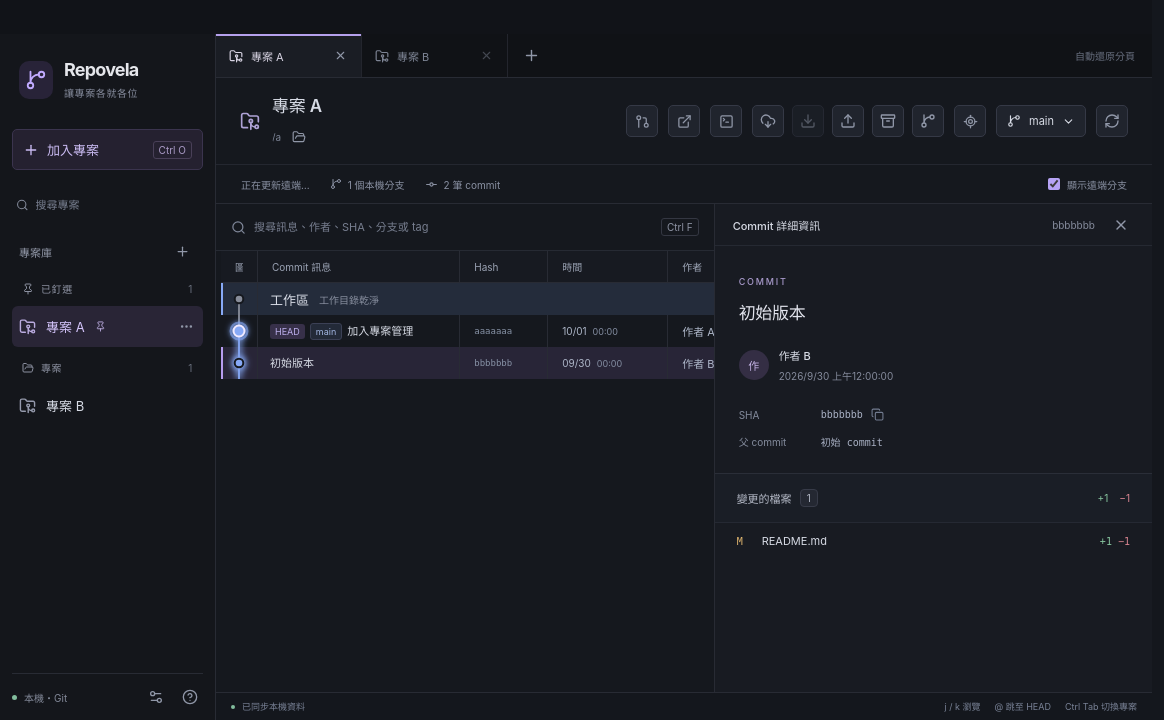
Test case: 桌面分頁與瀏覽互動 › Fetch 完成時，較早開始的重新讀取不能覆蓋新資料
Check: the heading "初始版本" is shown, box x1=739 y1=303 x2=806 y2=323
Click the button named "重新整理" at [1112, 121], box x1=1096 y1=105 x2=1128 y2=137
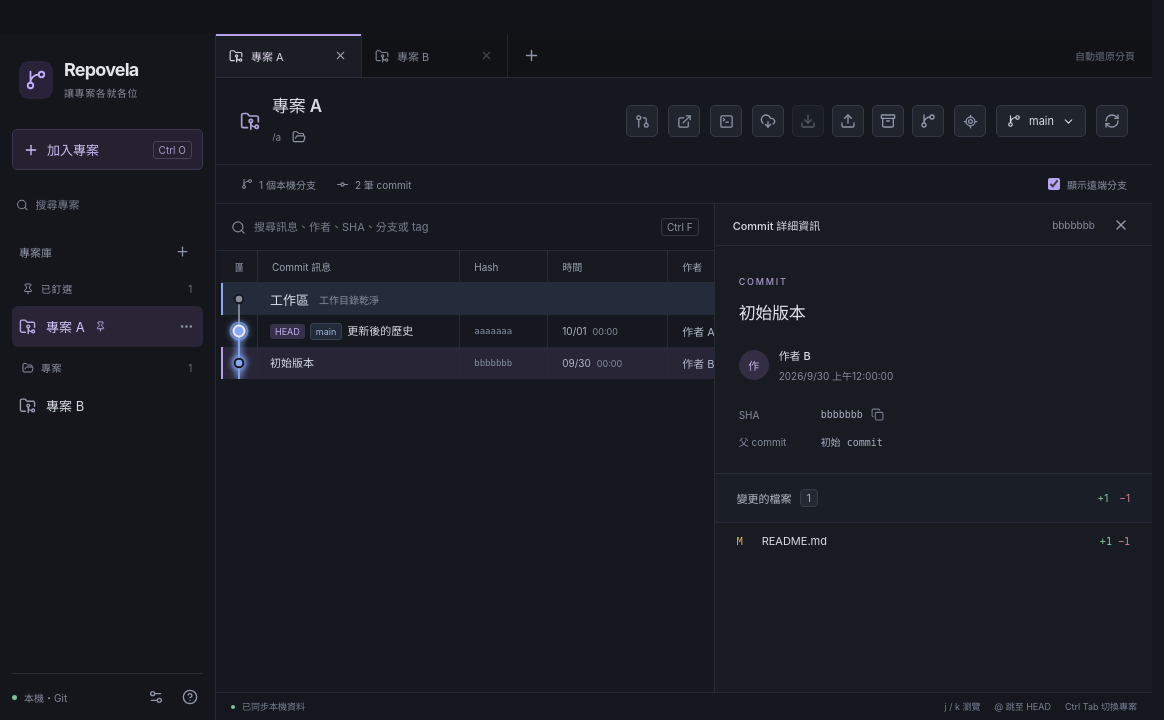
Check: the text "更新後的歷史" is shown, box x1=347 y1=324 x2=413 y2=338
